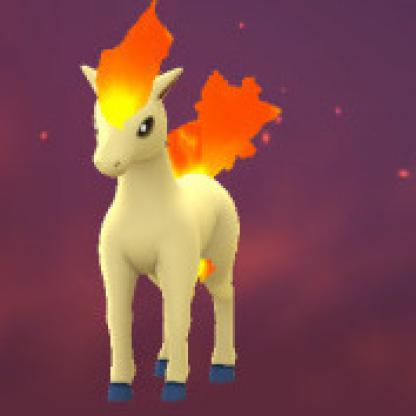Ponyta: (55, 12, 283, 405)
